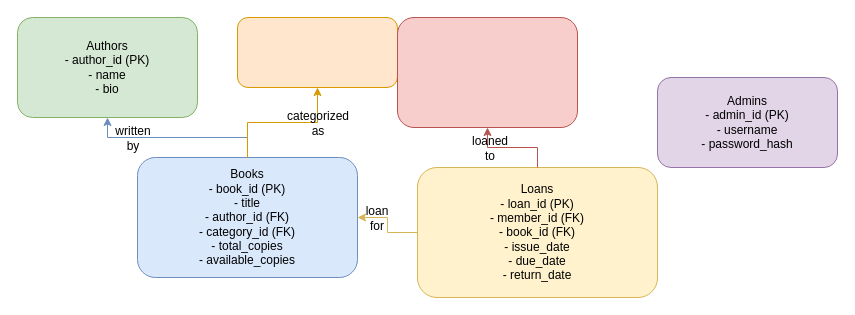
The diagram is 855 pixels wide and 315 high, and some of its shapes have lost their labels. Each missing label, with the centre of its shape:
"Categories - category_id (PK) - name" goes at (x=317, y=52).
"Members - member_id (PK) - name - email - phone - join_date" goes at (x=487, y=72).
